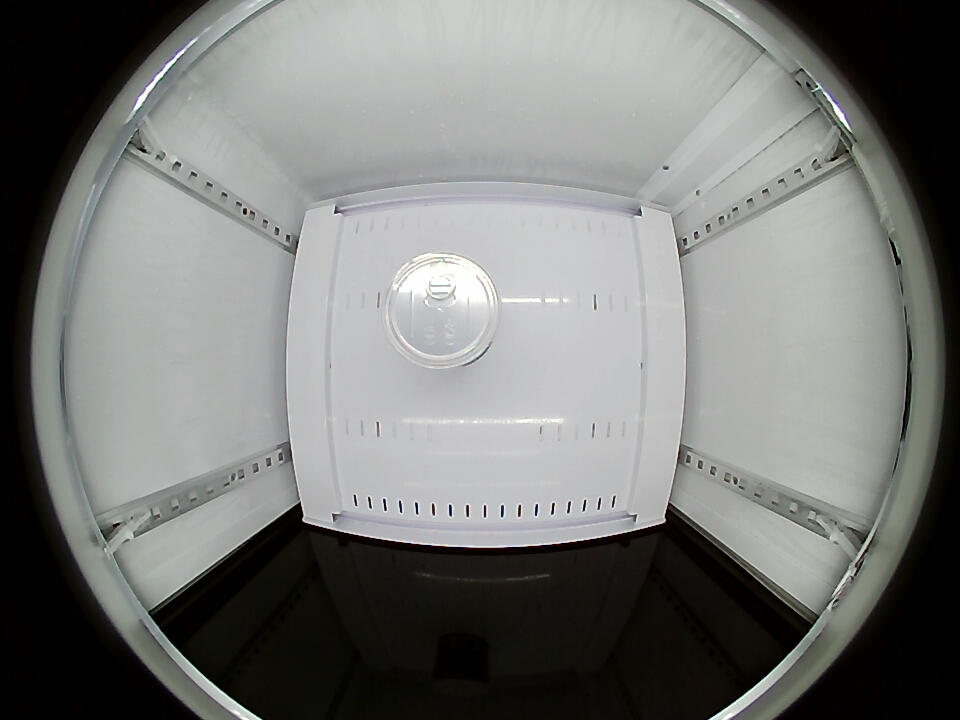haitai: (381, 251, 501, 370)
